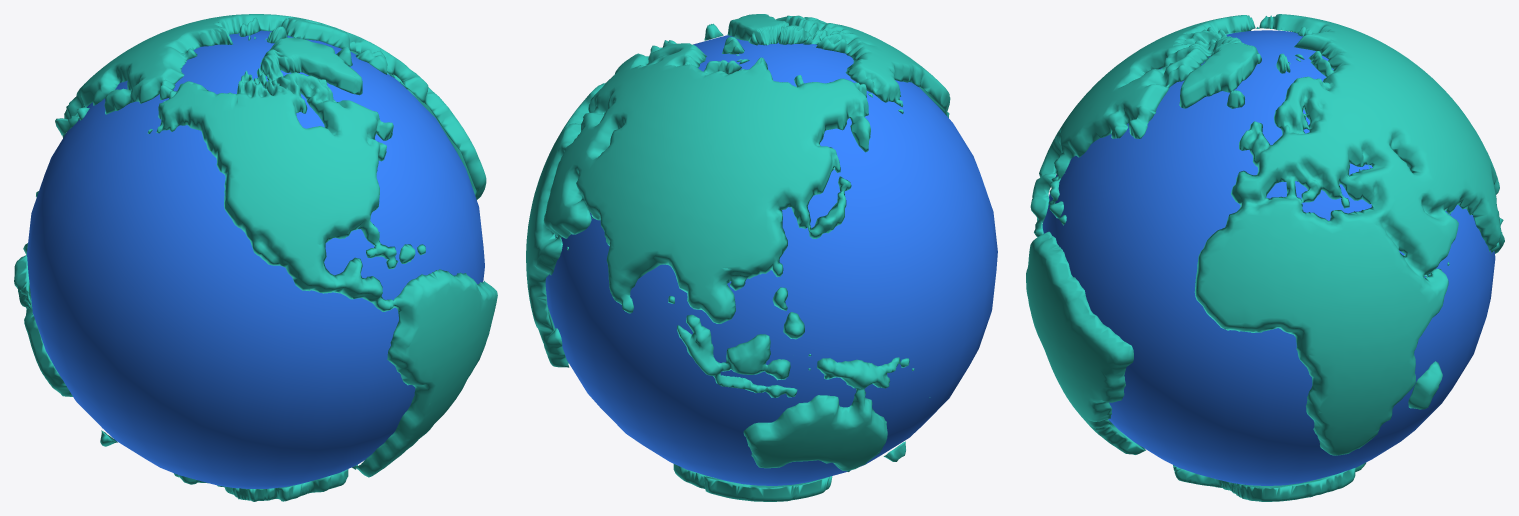
The model's file is globe.fbx.
3 views of the same model, side by side, from view 1: azimuth 30°, elevation 25°; view 2: azimuth 150°, elevation 25°; view 3: azimuth 270°, elevation 25° (orthographic).
Parts seen in each view (by area): view 1: globe, Earth; view 2: globe, Earth; view 3: Earth, globe.
Part boxes in pixels (x1,y1,x2,y2): globe: (27,30,484,488); Earth: (14,14,497,501); globe: (545,35,997,485); Earth: (526,14,950,501); Earth: (1026,14,1504,501); globe: (1042,30,1495,485).
Size of the model in its own units: 1.9 by 1.97 by 1.94.
